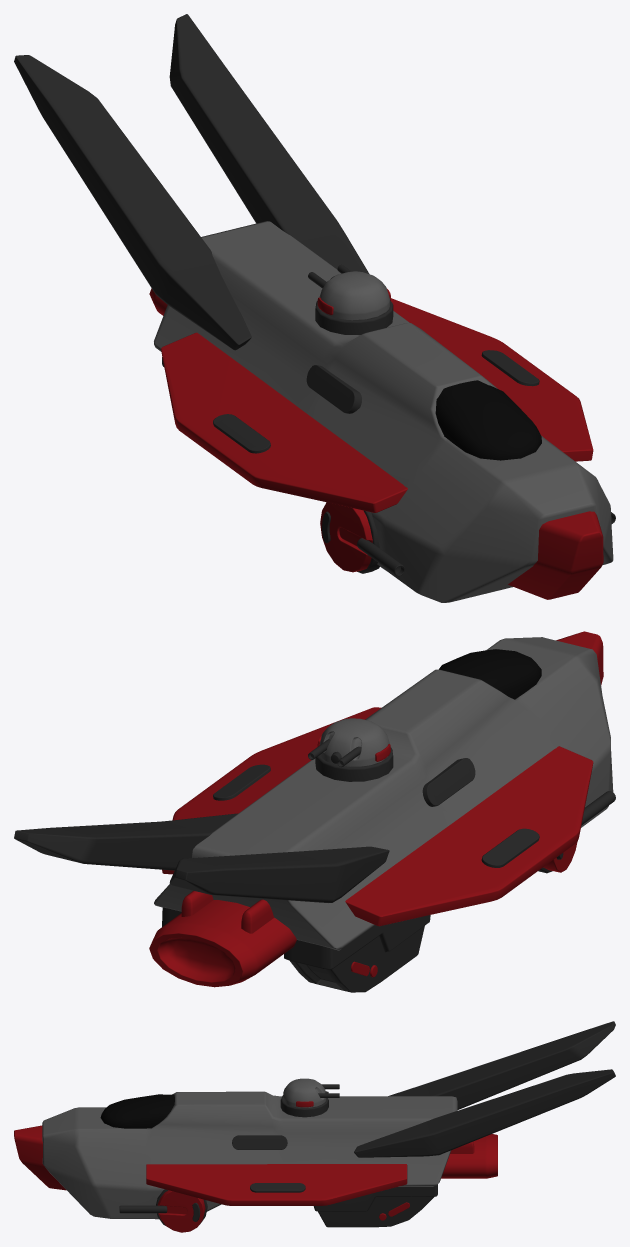
Rendered from corvette_2.glb.
3 renders of one model, top to bottom at view 1: azimuth 30°, elevation 25°; view 2: azimuth 150°, elevation 25°; view 3: azimuth 270°, elevation 25°, orthographic. The views are drawn at different scales.
Parts seen in each view (by area): view 1: Corvette_02; view 2: Corvette_02; view 3: Corvette_02.
Boxes of the visible parts, x1,y1,x2,y2 form: Corvette_02: [14, 14, 615, 602]; Corvette_02: [14, 631, 615, 992]; Corvette_02: [14, 1021, 615, 1232].
Size of the model in its own units: 12.94 by 9.73 by 33.89.
1 material, 1 textured.
